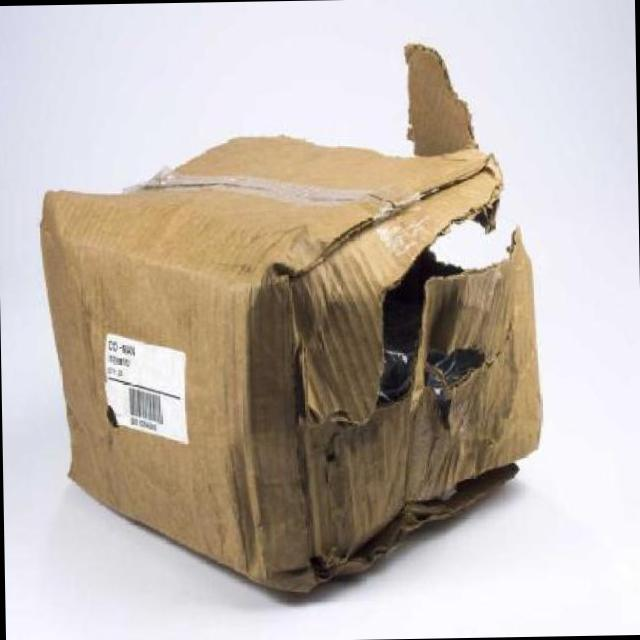box: (42, 40, 597, 594)
